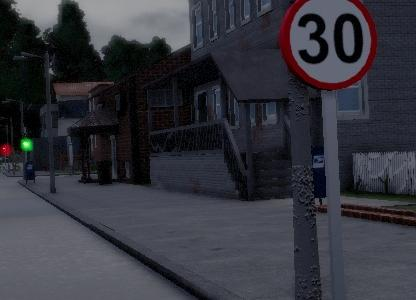Speed_30: (273, 0, 379, 86)
